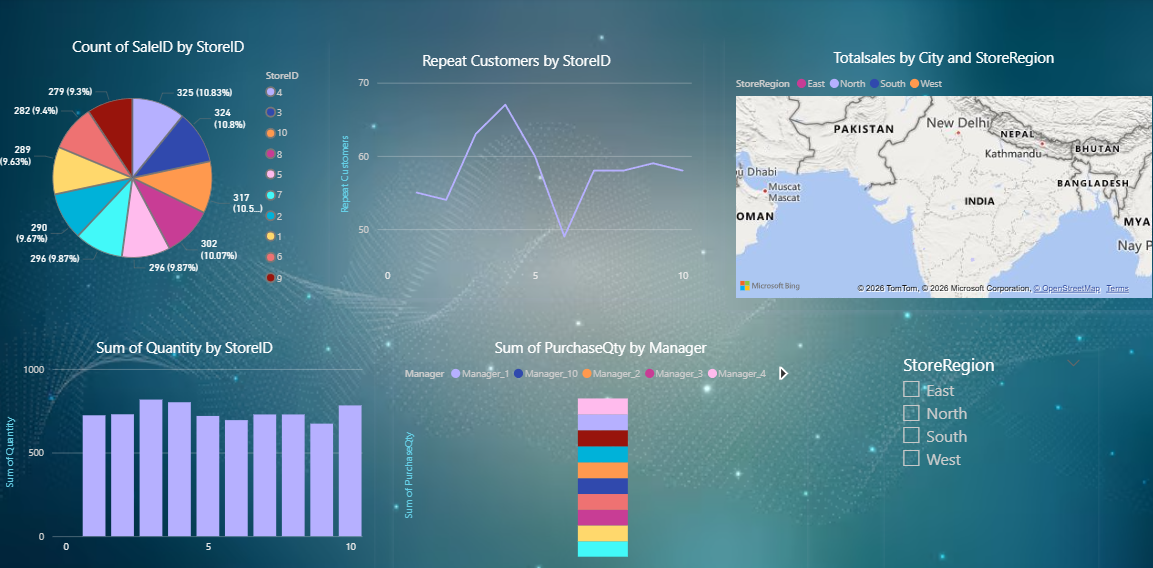

What the dashboard file says about the page in this screenshot:
{"tool":"powerbi","page":{"name":"store performance","canvas":[1280,720],"ordinal":1},"visuals":[{"type":"pieChart","fields":{"Y":["CountNonNull(Sales_Fact.SaleID)"],"Category":["Sales_Fact.StoreID"]},"box":[0,42.5,357.8,290.7],"z":0},{"type":"clusteredColumnChart","fields":{"Category":["Store_Dim.StoreID"],"Y":["Sum(Sales_Fact.Quantity)"]},"box":[0,360.6,415.4,266],"z":1000},{"type":"filledMap","fields":{"Series":["Store_Dim.StoreRegion"],"Category":["Store_Dim.City"]},"box":[800.4,42.7,479.9,300.5],"z":2000},{"type":"lineChart","fields":{"Category":["Store_Dim.StoreID"],"Y":["Measure.Repeat Customers"]},"box":[367.4,47,408.7,283.4],"z":3000},{"type":"slicer","fields":{"Values":["Store_Dim.StoreRegion"]},"box":[975.5,378.8,233.6,262],"z":4000},{"type":"ribbonChart","fields":{"Series":["Store_Dim.Manager"],"Y":["Sum(Inventory_Fact.PurchaseQty)"]},"box":[437.4,360.6,453.8,266],"z":5000}]}

Visuals, with their boxes on the page's 1280x720 design canvas (x1, y1, x2, y2). These are canvas units, not pixel positions in the 1153x568 screenshot, which may show the page scaled, cropped or inside an application window:
pieChart - CountNonNull(Sales_Fact.SaleID) x Sales_Fact.StoreID: (x1=0, y1=42, x2=358, y2=333)
clusteredColumnChart - Store_Dim.StoreID x Sum(Sales_Fact.Quantity): (x1=0, y1=361, x2=415, y2=627)
filledMap - Store_Dim.StoreRegion x Store_Dim.City: (x1=800, y1=43, x2=1280, y2=343)
lineChart - Store_Dim.StoreID x Measure.Repeat Customers: (x1=367, y1=47, x2=776, y2=330)
slicer - Store_Dim.StoreRegion: (x1=976, y1=379, x2=1209, y2=641)
ribbonChart - Store_Dim.Manager x Sum(Inventory_Fact.PurchaseQty): (x1=437, y1=361, x2=891, y2=627)
